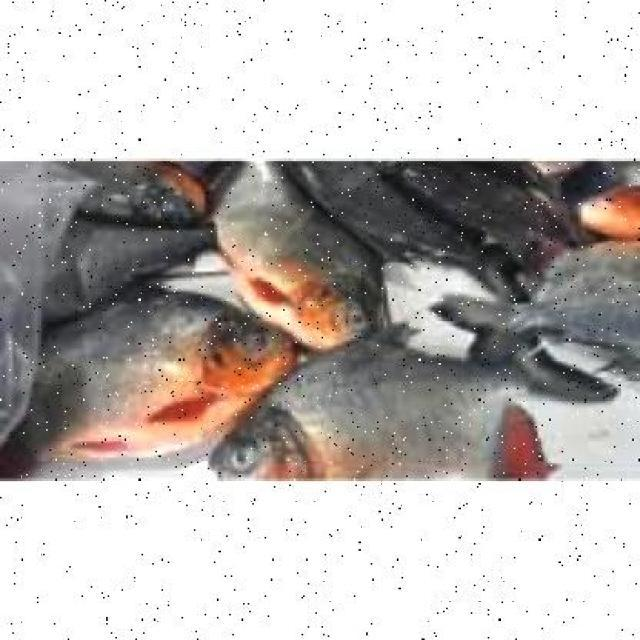ikan-pacu: (204, 342, 534, 476), (15, 294, 277, 457), (214, 159, 386, 333)
